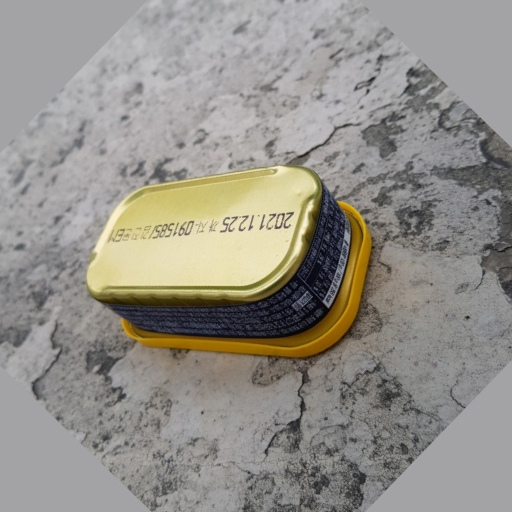Metal_2: (88, 166, 370, 357)
